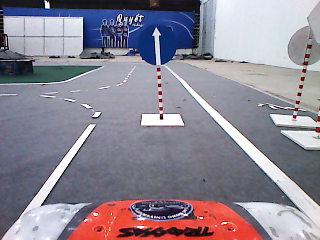straight: (137, 22, 178, 68)
